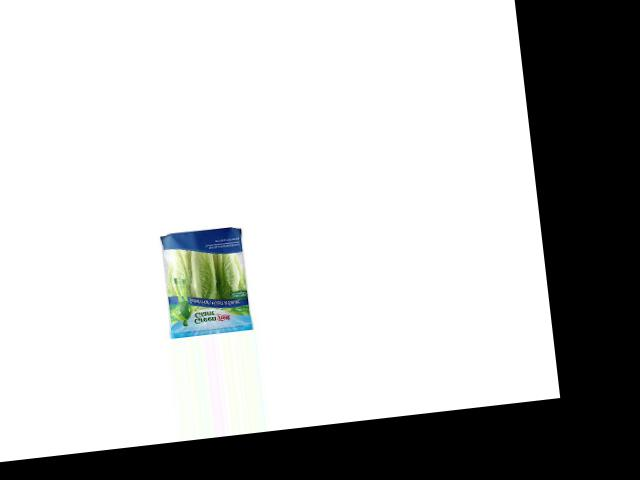lettuce: (156, 221, 253, 334)
